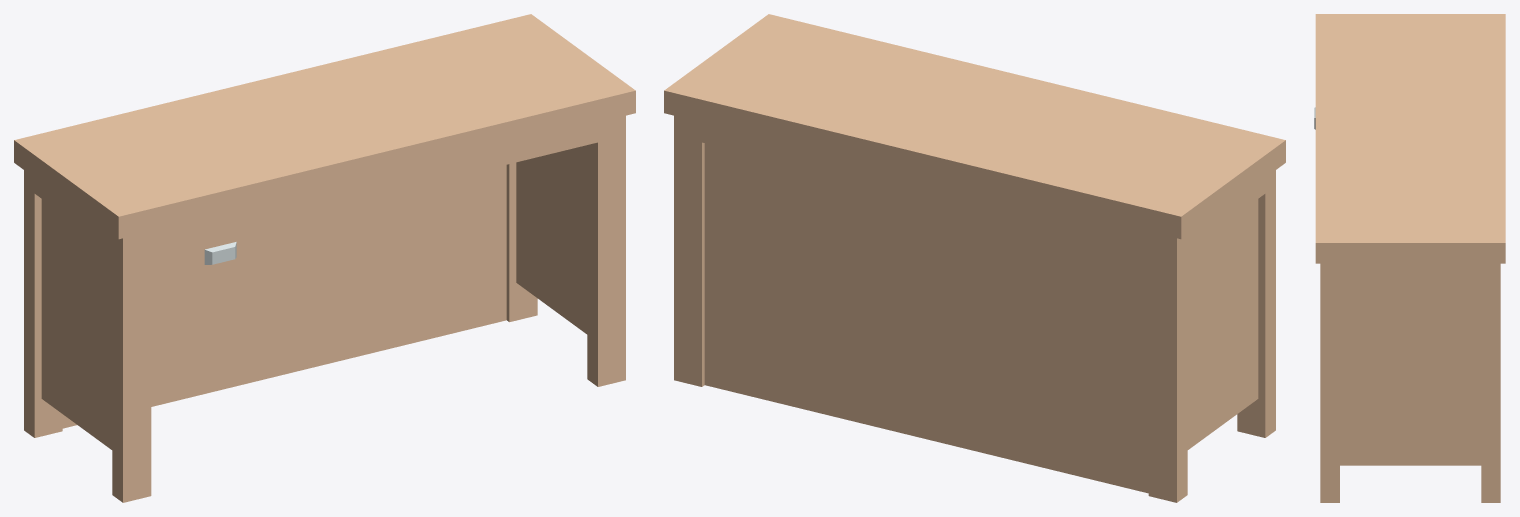
Rendered from office-desk.glb.
3 views of the same model, side by side, from view 1: azimuth 30°, elevation 25°; view 2: azimuth 150°, elevation 25°; view 3: azimuth 270°, elevation 25° (orthographic). The views are drawn at different scales.
Parts seen in each view (by area): view 1: desk(Clone), drawer; view 2: desk(Clone); view 3: desk(Clone).
Boxes of the visible parts, <box> form: desk(Clone): <box>14,14,635,502</box>; drawer: <box>151,217,289,288</box>; desk(Clone): <box>664,14,1285,502</box>; desk(Clone): <box>1315,14,1505,502</box>.
Size of the model in its own units: 1.4 by 0.75 by 0.4936.
